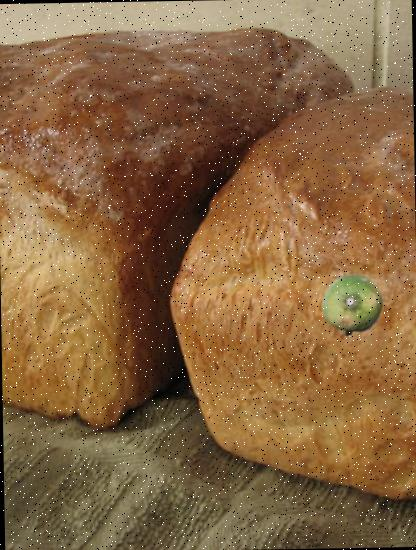Limes: (320, 273, 383, 336)
